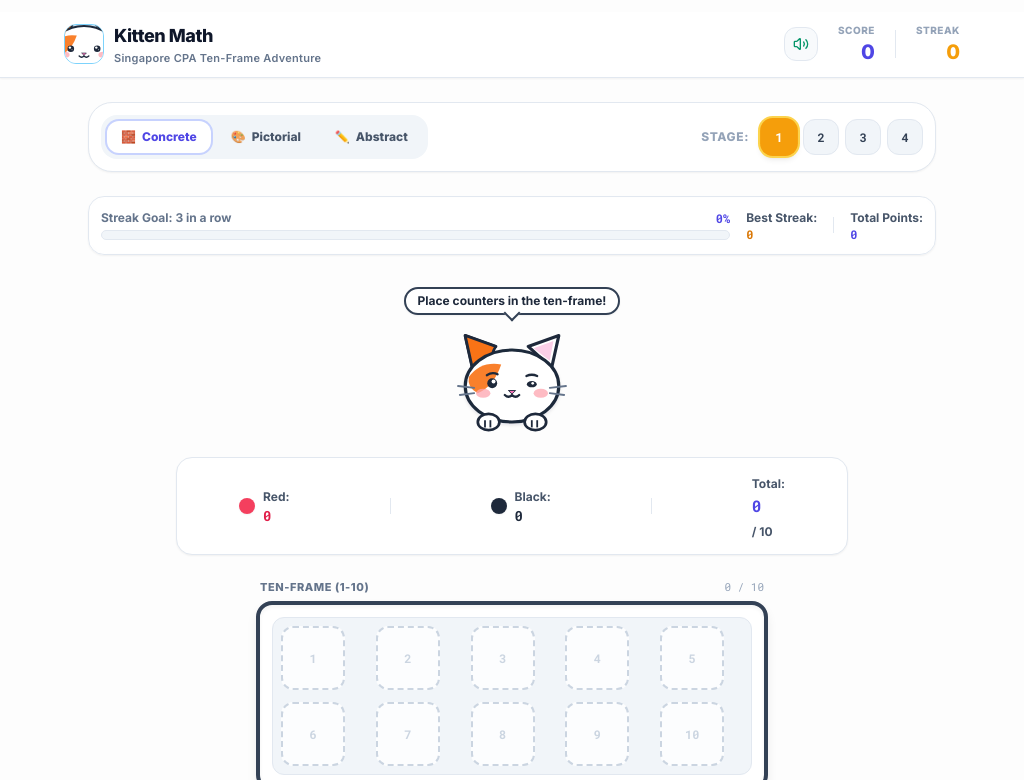
App Integration › toggles audio mute button in header
Click the button named "mute audio" at (801, 44), box [784,27,818,61]
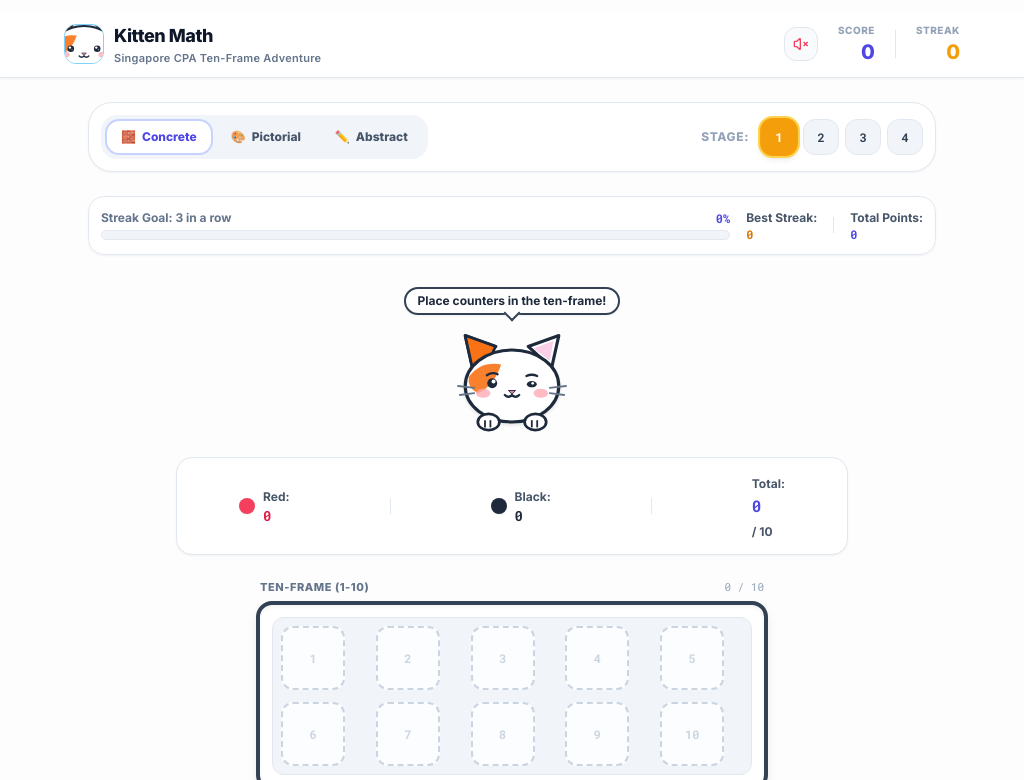
Now the button named "unmute audio" is shown, box [784,27,818,61]
